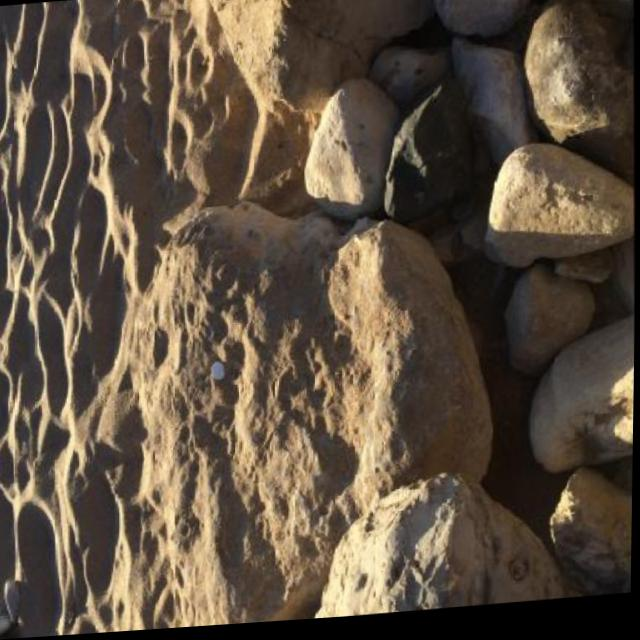plastic: (212, 360, 226, 379)
